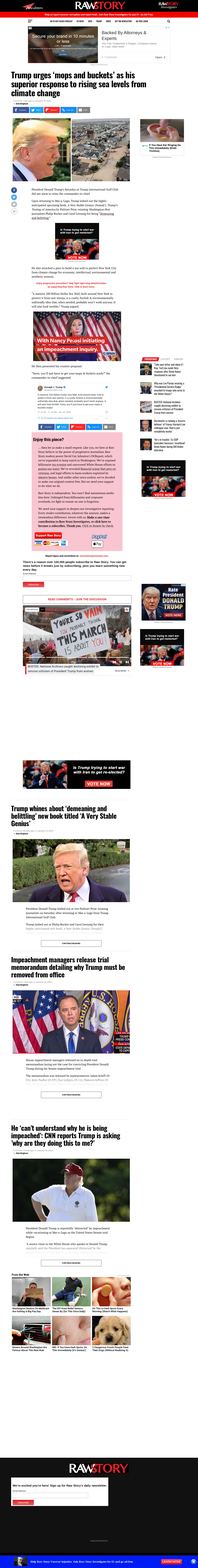fake_button: (32, 1088, 113, 1104), (31, 936, 107, 949), (37, 1257, 109, 1269), (83, 779, 115, 792), (33, 530, 66, 541), (22, 581, 47, 591), (62, 254, 91, 261)
